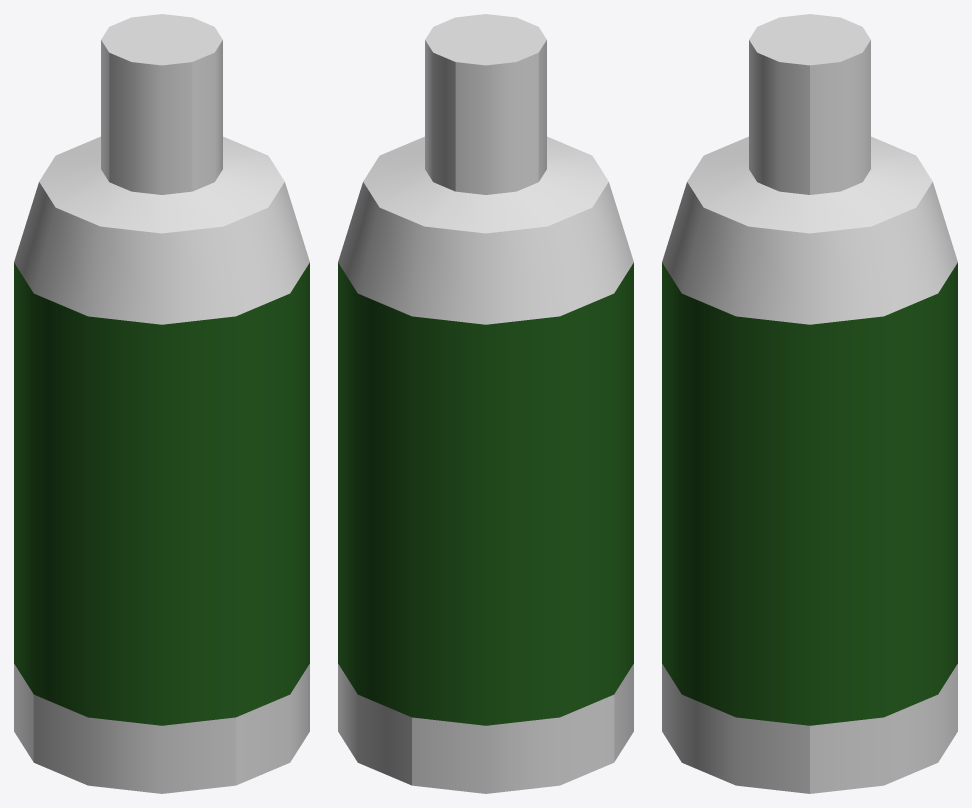
Rendered from TallBottle.fbx.
The picture shows the model from 3 angles, left to right: view 1: azimuth 30°, elevation 25°; view 2: azimuth 150°, elevation 25°; view 3: azimuth 270°, elevation 25°; orthographic projection.
Visible parts, largest first — view 1: Bottle1Color.001, Bottle1White.001; view 2: Bottle1Color.001, Bottle1White.001; view 3: Bottle1Color.001, Bottle1White.001.
Part boxes in pixels (left/top/right/bottom): Bottle1Color.001: left=14, top=262, right=309, bottom=725; Bottle1White.001: left=14, top=14, right=309, bottom=793; Bottle1Color.001: left=338, top=262, right=633, bottom=725; Bottle1White.001: left=338, top=14, right=633, bottom=793; Bottle1Color.001: left=662, top=262, right=957, bottom=725; Bottle1White.001: left=662, top=14, right=957, bottom=793.
Bounding box in the file's own units: 51.38 × 132 × 51.38.
